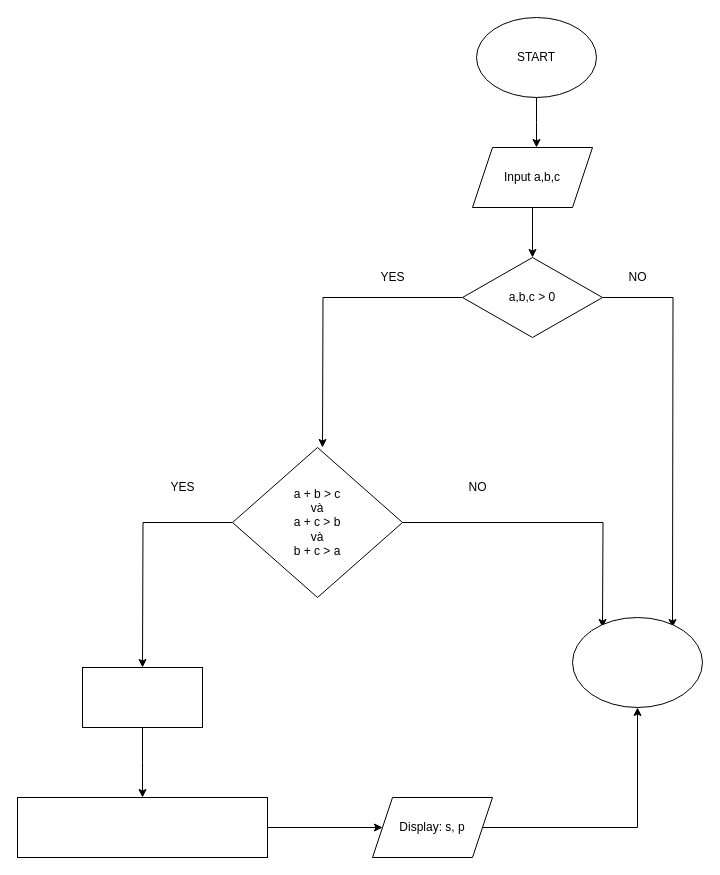
This 720x875 diagram has some shape labels left out. The shapes that lost their labels are listed below. From the top down, each one's centre as x and y in pixels, then its label:
At point (637, 662): "END".
At point (142, 697): "Chu vi: p = a + b + c".
At point (142, 827): "Diện tích: s = √p * (p – a) * (p – b) * ( p – c)".
